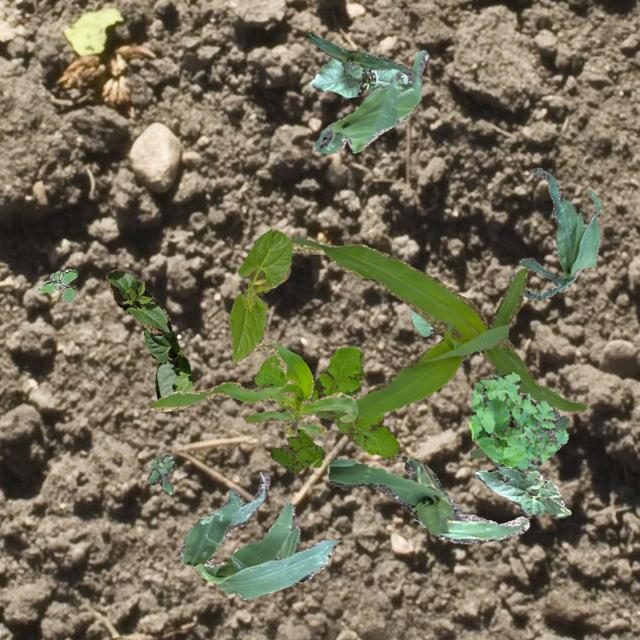crop: (288, 236, 586, 418), (178, 472, 340, 598), (148, 342, 356, 436), (328, 458, 528, 544), (508, 166, 600, 300), (314, 49, 426, 152), (228, 228, 290, 362), (304, 31, 414, 76), (474, 466, 570, 516), (104, 268, 170, 334), (308, 56, 408, 96), (142, 324, 192, 398), (410, 308, 436, 336)
weed: (254, 346, 401, 462), (468, 370, 568, 470), (468, 416, 568, 470), (270, 428, 320, 472), (38, 268, 76, 302), (146, 454, 174, 494)
